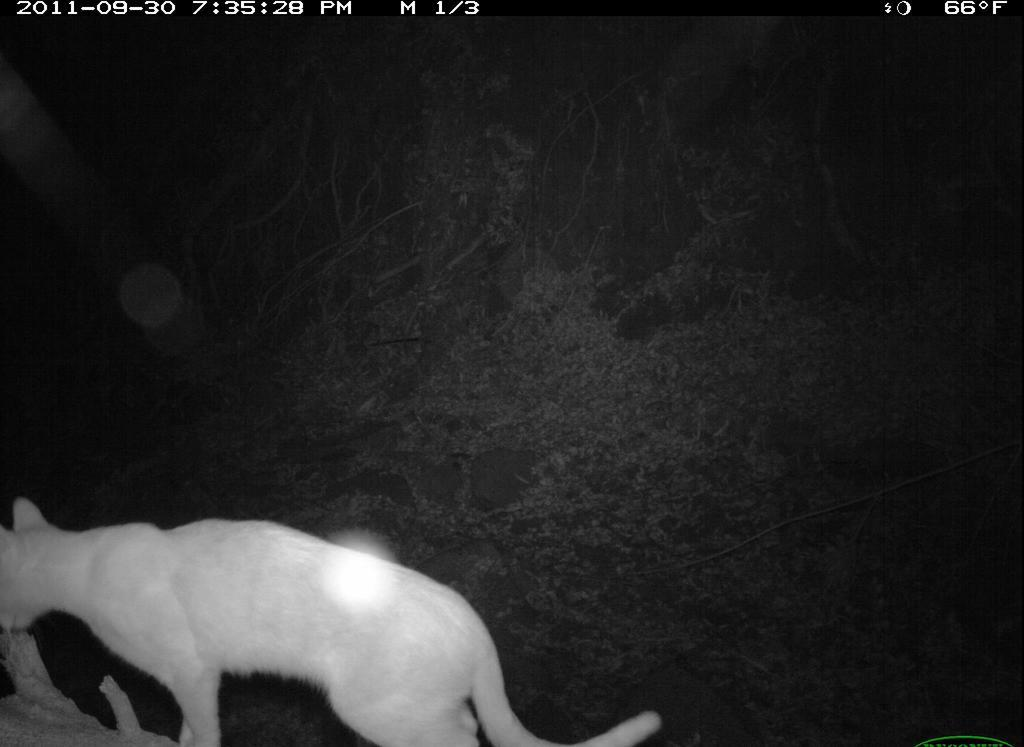cat: (2, 486, 693, 745)
